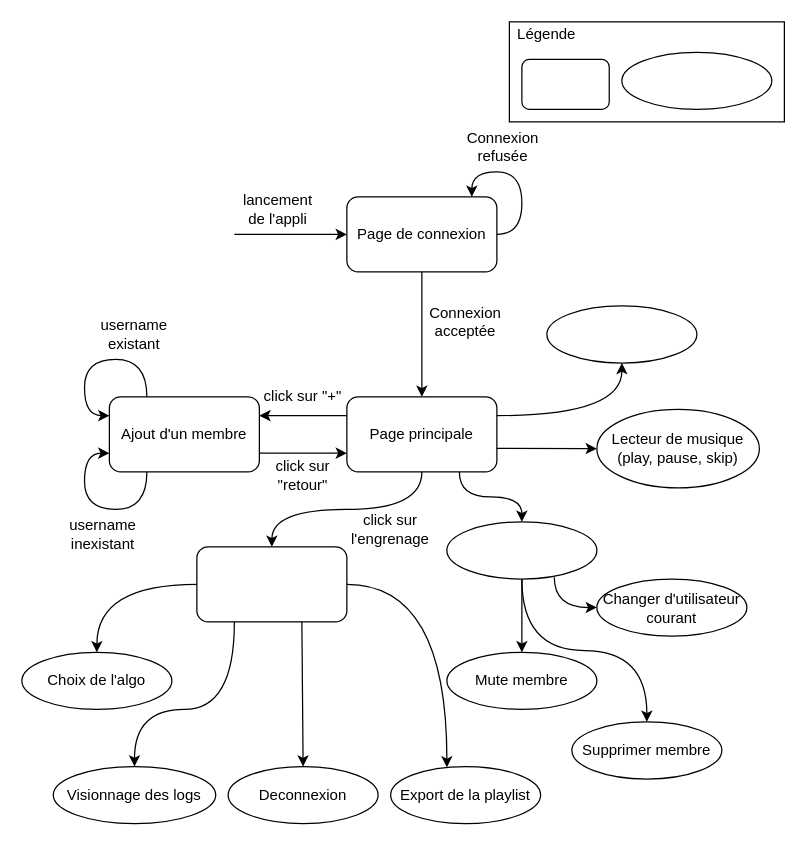
This 806x846 diagram has some shape labels left out. Each missing label, with the centre of its shape:
"Fonctionnalitée" goes at point 696,80.
"Mix playlist" goes at point 621,334.
"Pages" goes at point 565,83.
"Paramètres" goes at point 271,584.
"Visionnage des membres" goes at point 521,550.
